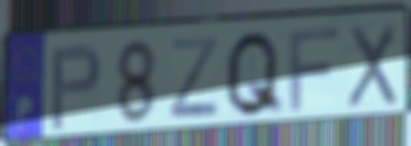8: (113, 38, 159, 128)
F: (286, 24, 342, 114)
P: (48, 41, 104, 134)
Q: (222, 27, 286, 120)
X: (344, 20, 400, 112)
Z: (167, 34, 222, 122)
